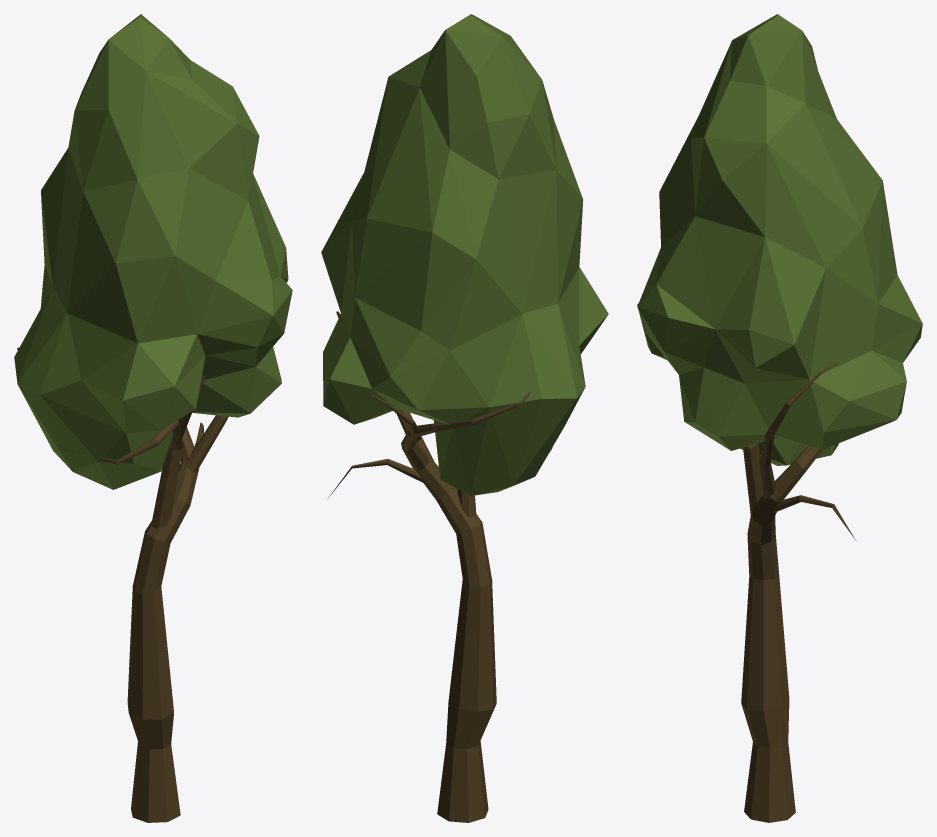
File: DarkWoodDecorationLargeTreeWithLeavesSingleCrown3.fbx
3 views of the same model, side by side, from view 1: azimuth 30°, elevation 25°; view 2: azimuth 150°, elevation 25°; view 3: azimuth 270°, elevation 25° (orthographic).
Parts seen in each view (by area): view 1: Canopy, TreeTrunk; view 2: Canopy, TreeTrunk; view 3: Canopy, TreeTrunk.
Boxes of the visible parts, <box> form: Canopy: <box>14,14,292,489</box>; TreeTrunk: <box>17,347,228,822</box>; Canopy: <box>321,14,608,495</box>; TreeTrunk: <box>328,311,554,822</box>; Canopy: <box>637,14,922,465</box>; TreeTrunk: <box>741,362,855,822</box>.
Bounding box in the file's own units: 629 × 1884 × 616.
